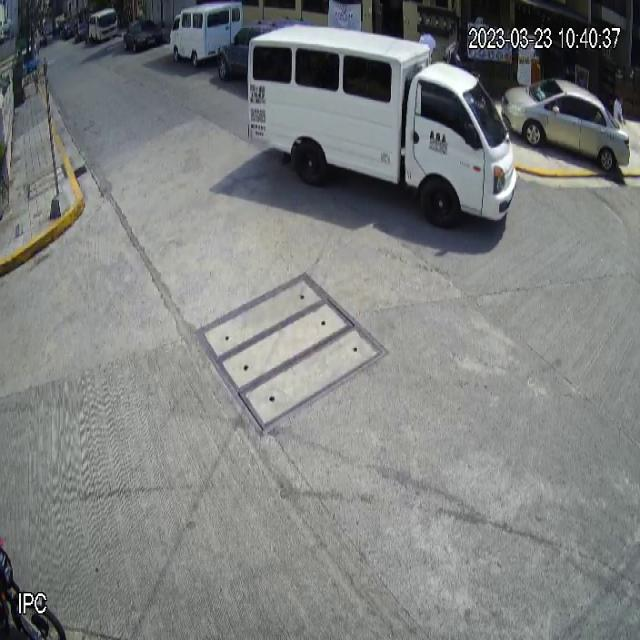Car: (500, 76, 632, 175)
Van: (245, 20, 519, 235)
